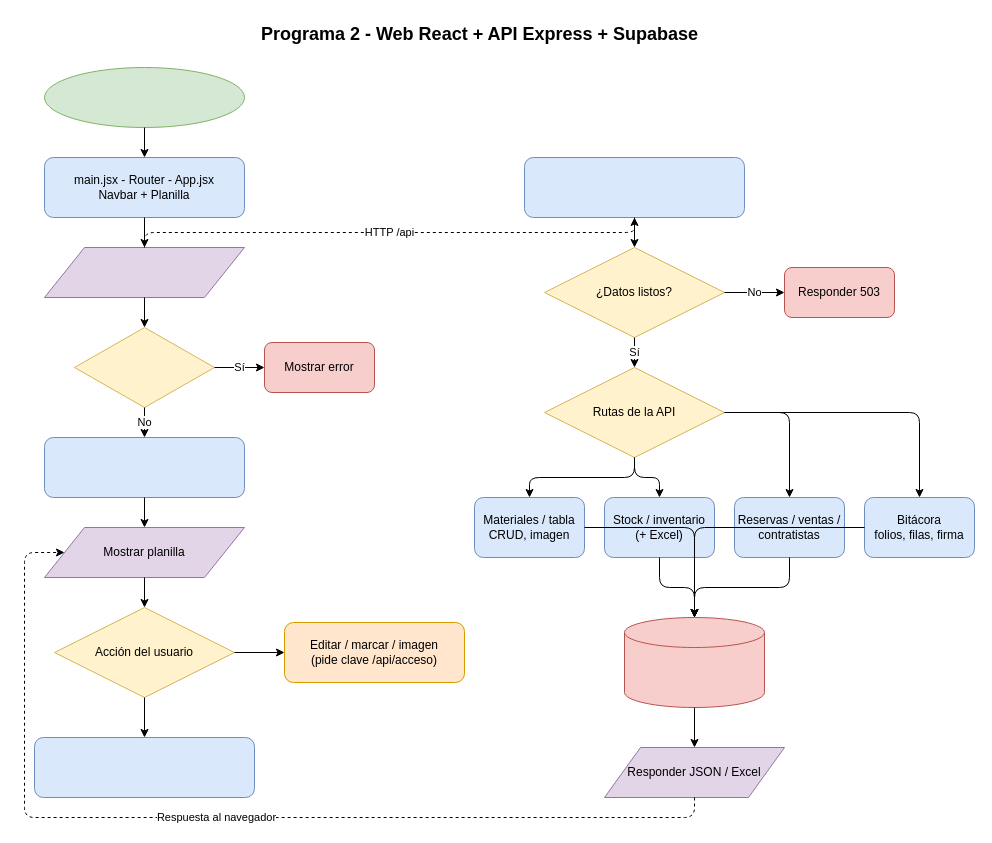
Image size: 992x843. Some labels were removed from this diagram. Each missing label, with the centre of its shape:
"Express server.js cors + json + middleware /api" belongs at pixel 634 187.
"fetch GET /api/tabla" belongs at pixel 144 272.
"Filtrar, ordenar y paginar (bodega, stock, precio, marcados)" belongs at pixel 144 467.
"Inicio Usuario abre la web" belongs at pixel 144 97.
"Supabase / Base de datos" belongs at pixel 694 662.
"Ver detalle (Detalle.jsx) Admin / Bitácora / Recorrido" belongs at pixel 144 767.
"¿Error?" belongs at pixel 144 367.
